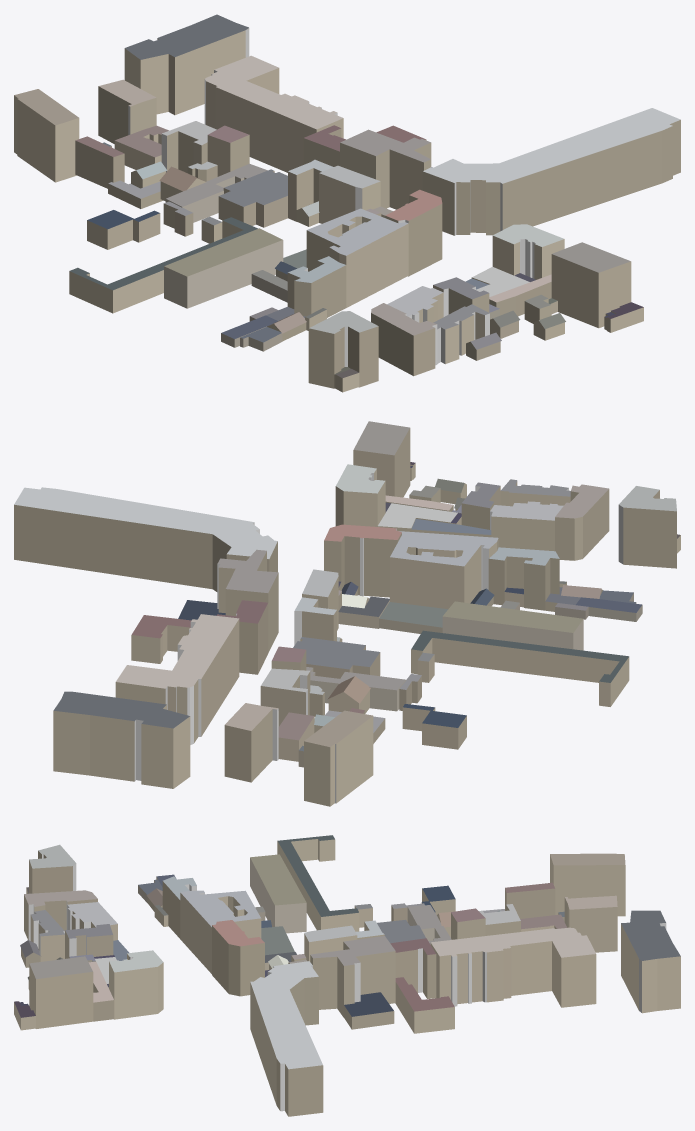
3 renders of one model, top to bottom at view 1: azimuth 30°, elevation 25°; view 2: azimuth 150°, elevation 25°; view 3: azimuth 270°, elevation 25°, orthographic. The views are drawn at different scales.
Visible parts, largest first — view 1: tuile; view 2: tuile; view 3: tuile.
Part boxes in pixels (x1=…): tuile: x1=14, y1=14, x2=680, y2=392; tuile: x1=14, y1=421, x2=680, y2=806; tuile: x1=14, y1=835, x2=680, y2=1116.
Bounding box in the file's own units: 239 × 27.6 × 261.
